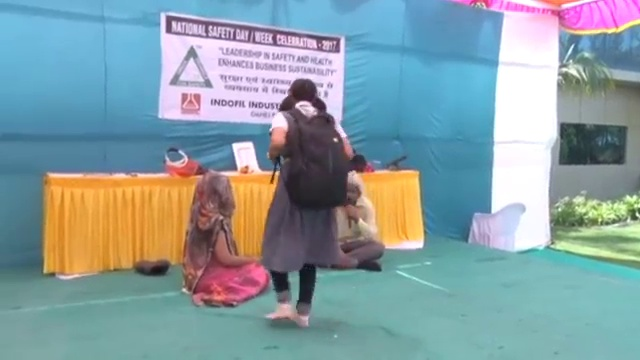helmet_off: (193, 174, 236, 217), (286, 77, 319, 105), (343, 171, 364, 207)
person: (261, 78, 349, 337), (178, 173, 270, 307), (332, 170, 387, 272)
